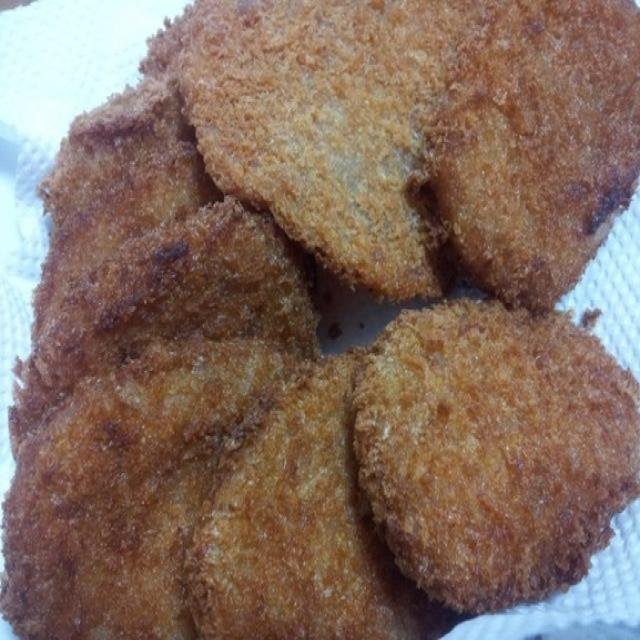炸货点心: (1, 7, 636, 637)
